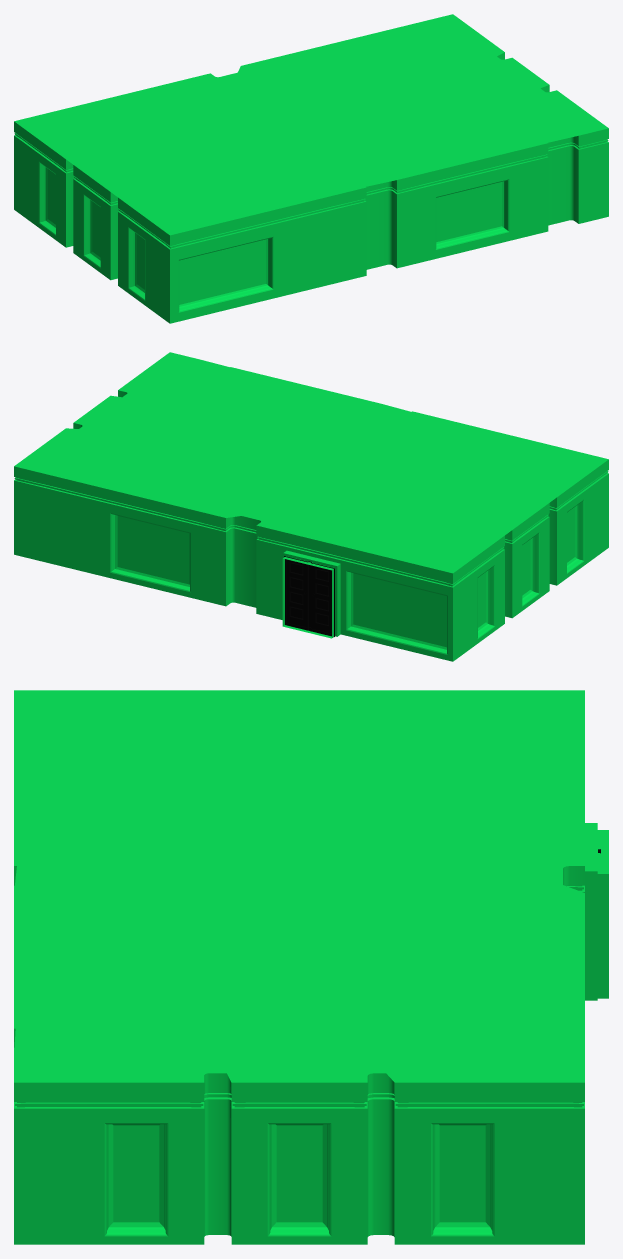
File: CafeInside.fbx
The picture shows the model from 3 angles, top to bottom: view 1: azimuth 30°, elevation 25°; view 2: azimuth 150°, elevation 25°; view 3: azimuth 270°, elevation 25°; orthographic projection. The views are drawn at different scales.
Parts seen in each view (by area): view 1: CafeInside; view 2: CafeInside, CafeDoor, CafeInside.001; view 3: CafeInside.
Part boxes in pixels (bbox=[...]): CafeInside: bbox=[14, 14, 608, 323]; CafeInside: bbox=[14, 352, 608, 661]; CafeDoor: bbox=[284, 556, 334, 636]; CafeInside.001: bbox=[283, 553, 337, 638]; CafeInside: bbox=[14, 690, 608, 1244].
Size of the model in its own units: 13 by 2.5 by 8.33.
